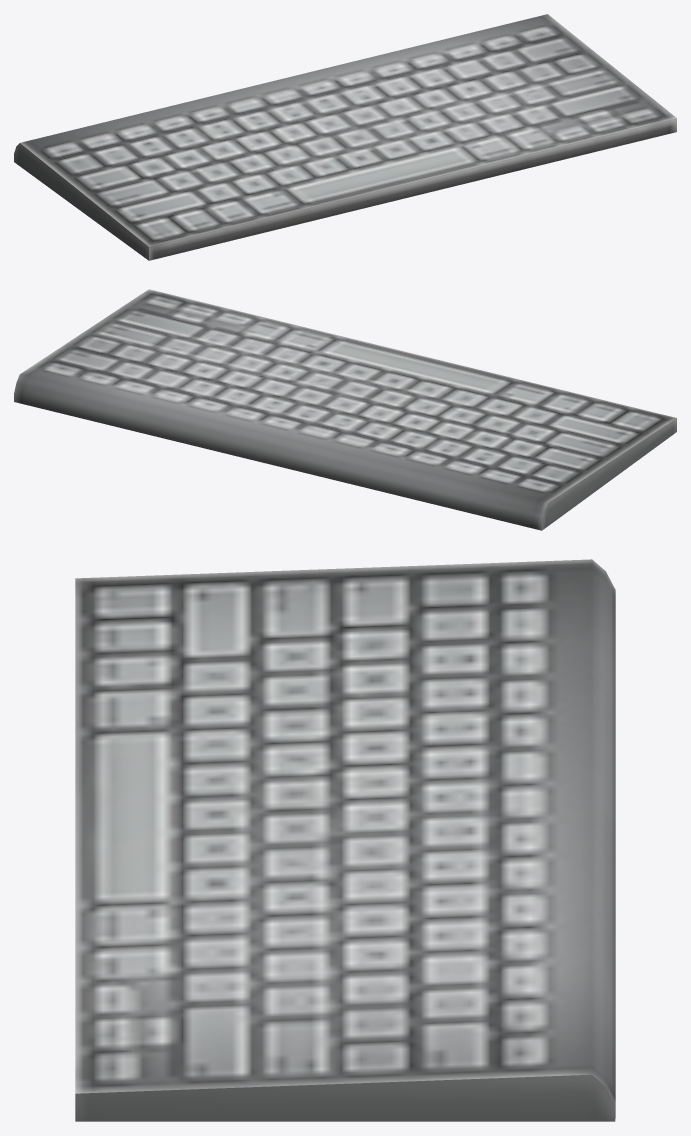
The model's file is TuShuGuan_01_jianpan_01.FBX.
3 renders of one model, top to bottom at view 1: azimuth 30°, elevation 25°; view 2: azimuth 150°, elevation 25°; view 3: azimuth 270°, elevation 25°, orthographic. The views are drawn at different scales.
Visible parts, largest first — view 1: TuShuGuan_01_jianpan_01; view 2: TuShuGuan_01_jianpan_01; view 3: TuShuGuan_01_jianpan_01.
Boxes of the visible parts, x1,y1,x2,y2 form: TuShuGuan_01_jianpan_01: [14, 14, 676, 260]; TuShuGuan_01_jianpan_01: [14, 289, 676, 530]; TuShuGuan_01_jianpan_01: [75, 559, 615, 1121].
Bounding box in the file's own units: 136 × 5.78 × 60.37.
